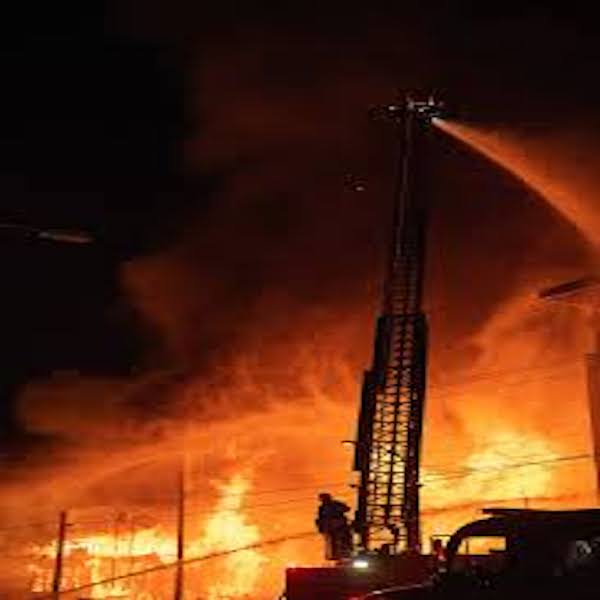fire: (9, 443, 284, 597), (430, 335, 597, 508), (201, 328, 351, 441)
